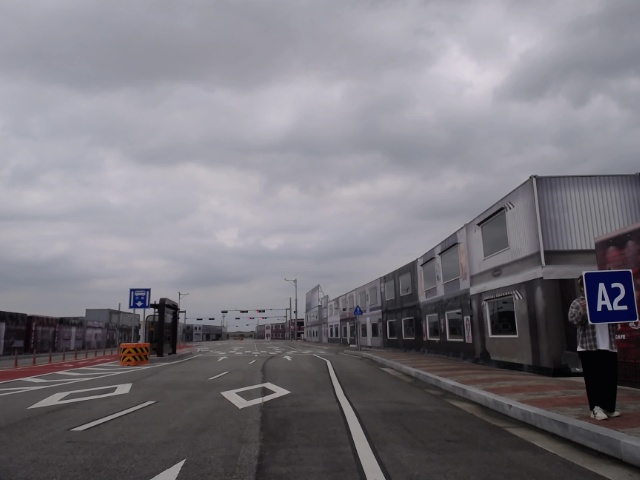delivery_a2: (583, 271, 638, 325)
